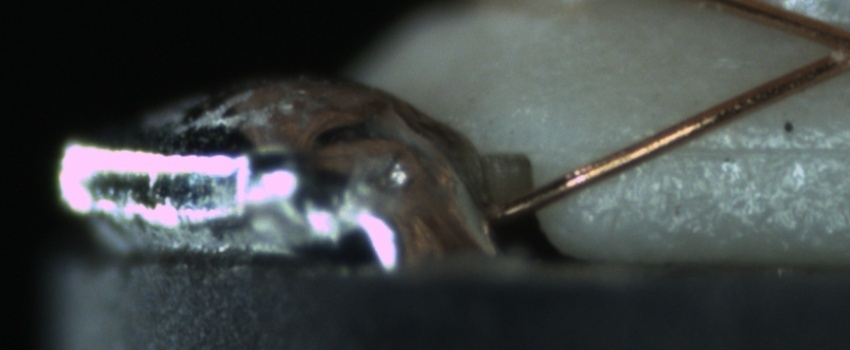CL: (802, 14, 849, 79)
DL: (638, 120, 849, 179)
